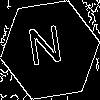N: (25, 25, 66, 76)
